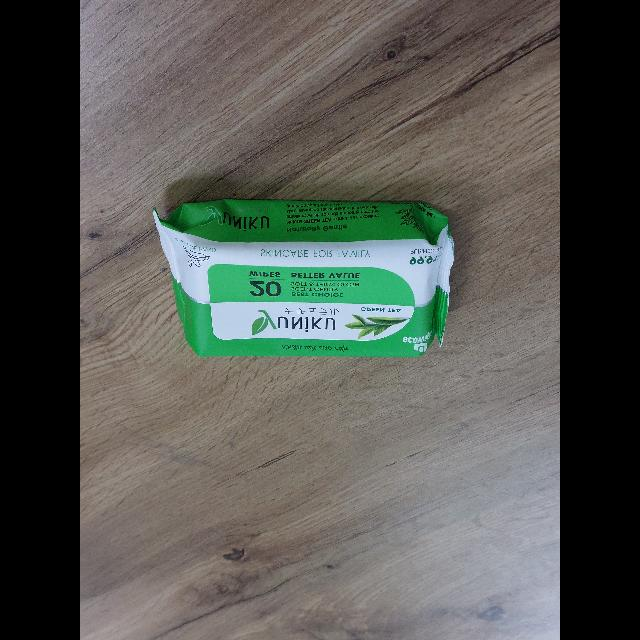khan_giay: (153, 196, 456, 358)
